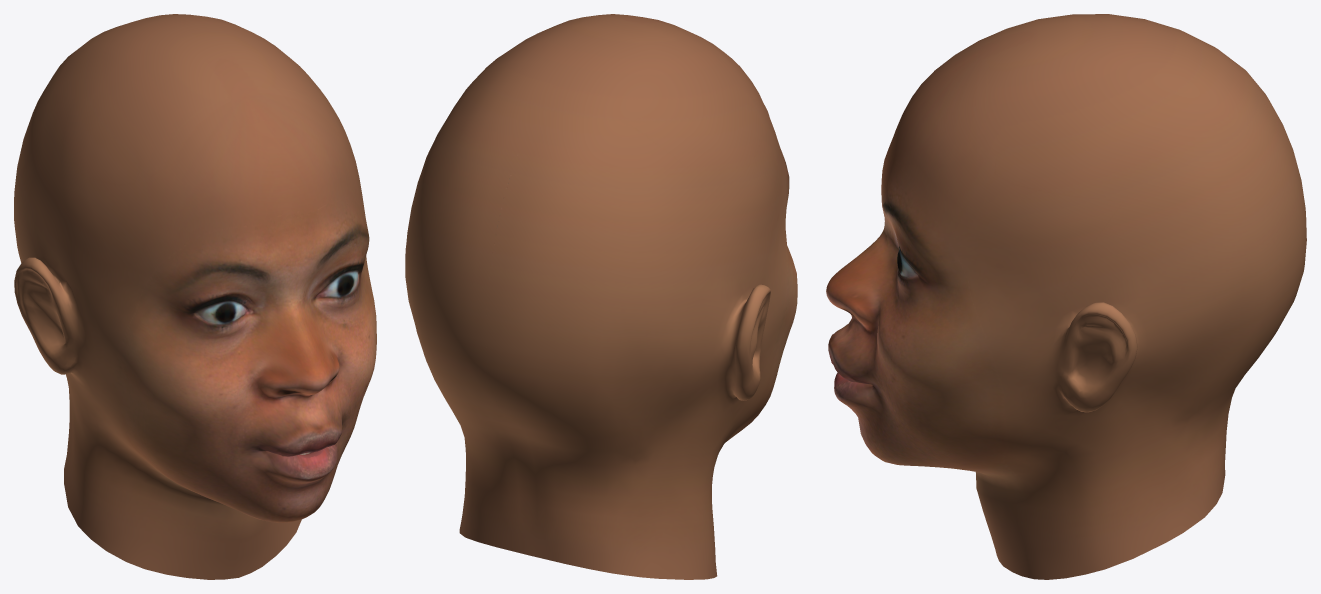
The model's file is v332_obj_Phonemeooh,Q.obj.
The picture shows the model from 3 angles, left to right: view 1: azimuth 30°, elevation 25°; view 2: azimuth 150°, elevation 25°; view 3: azimuth 270°, elevation 25°; orthographic projection. The views are drawn at different scales.
Parts seen in each view (by area): view 1: HeadHires; view 2: HeadHires; view 3: HeadHires.
Boxes of the visible parts, bbox=[...] form: HeadHires: bbox=[14, 14, 376, 579]; HeadHires: bbox=[405, 14, 797, 579]; HeadHires: bbox=[826, 14, 1306, 579].
Bounding box in the file's own units: 187 × 282 × 233.
